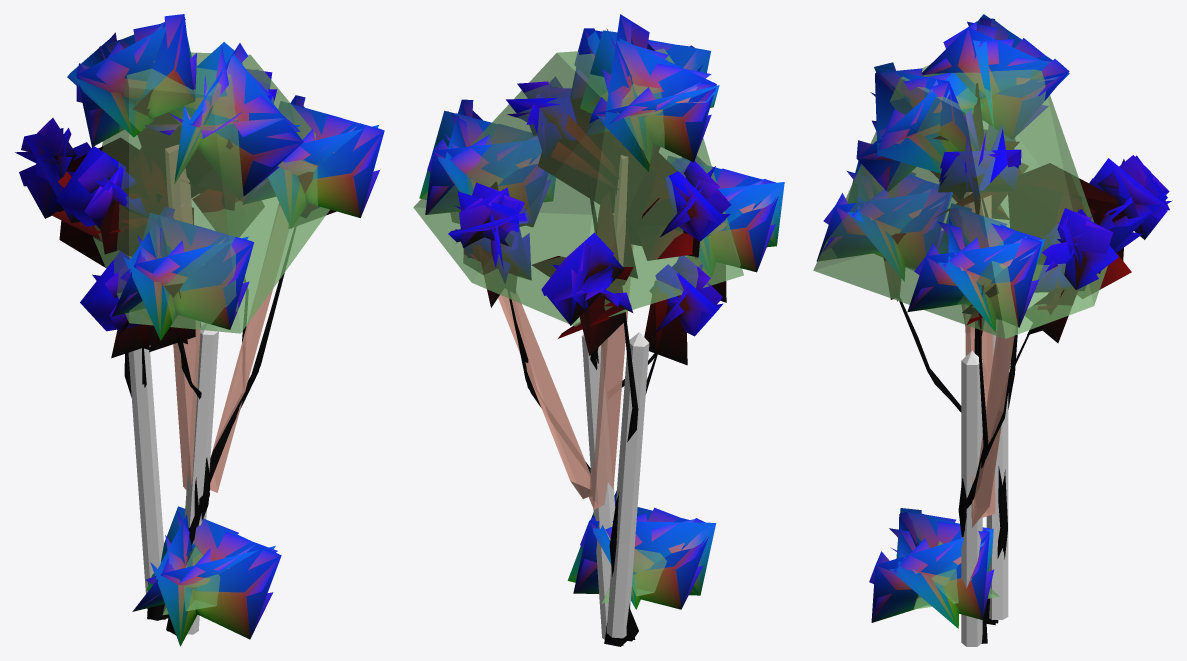
Rendered from scraggly_tree_filler_1.dae.
3 renders of one model, left to right at view 1: azimuth 30°, elevation 25°; view 2: azimuth 150°, elevation 25°; view 3: azimuth 270°, elevation 25°, orthographic.
Visible parts, largest first — view 1: Colmesh-1, scraggly_tree_filler_1_b2000, scraggly_tree_filler_1_b500; view 2: Colmesh-1, scraggly_tree_filler_1_b2000, scraggly_tree_filler_1_b500; view 3: Colmesh-1, scraggly_tree_filler_1_b500, scraggly_tree_filler_1_b2000.
Part boxes in pixels (x1,y1,x2,y2): Colmesh-1: (93,52,329,634); scraggly_tree_filler_1_b2000: (15,14,384,645); scraggly_tree_filler_1_b500: (15,14,384,646); Colmesh-1: (413,48,743,639); scraggly_tree_filler_1_b2000: (419,14,784,646); scraggly_tree_filler_1_b500: (419,14,783,645); Colmesh-1: (813,65,1107,646); scraggly_tree_filler_1_b500: (816,14,1169,627); scraggly_tree_filler_1_b2000: (817,18,1172,643).
Size of the model in its own units: 5.5 by 5.68 by 10.7.
